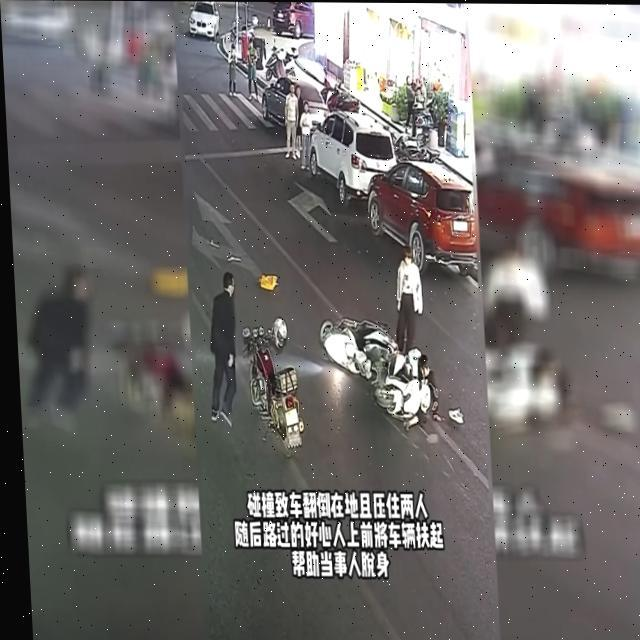single accident: (293, 246, 488, 471)
